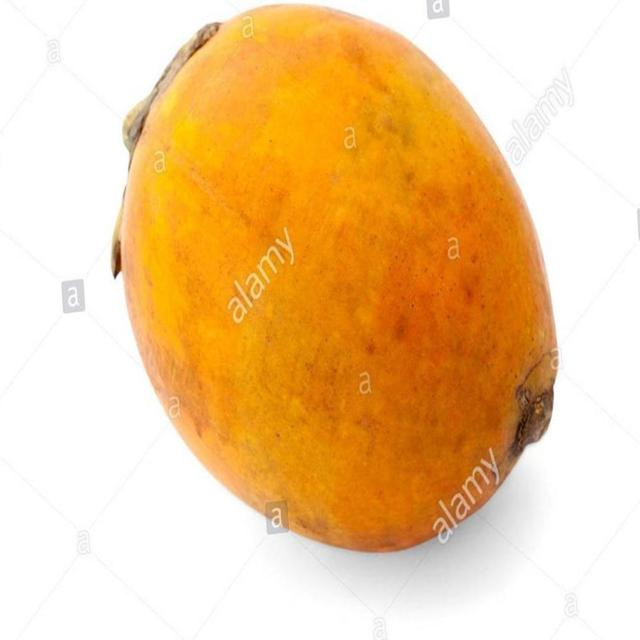good: (113, 3, 560, 556)
